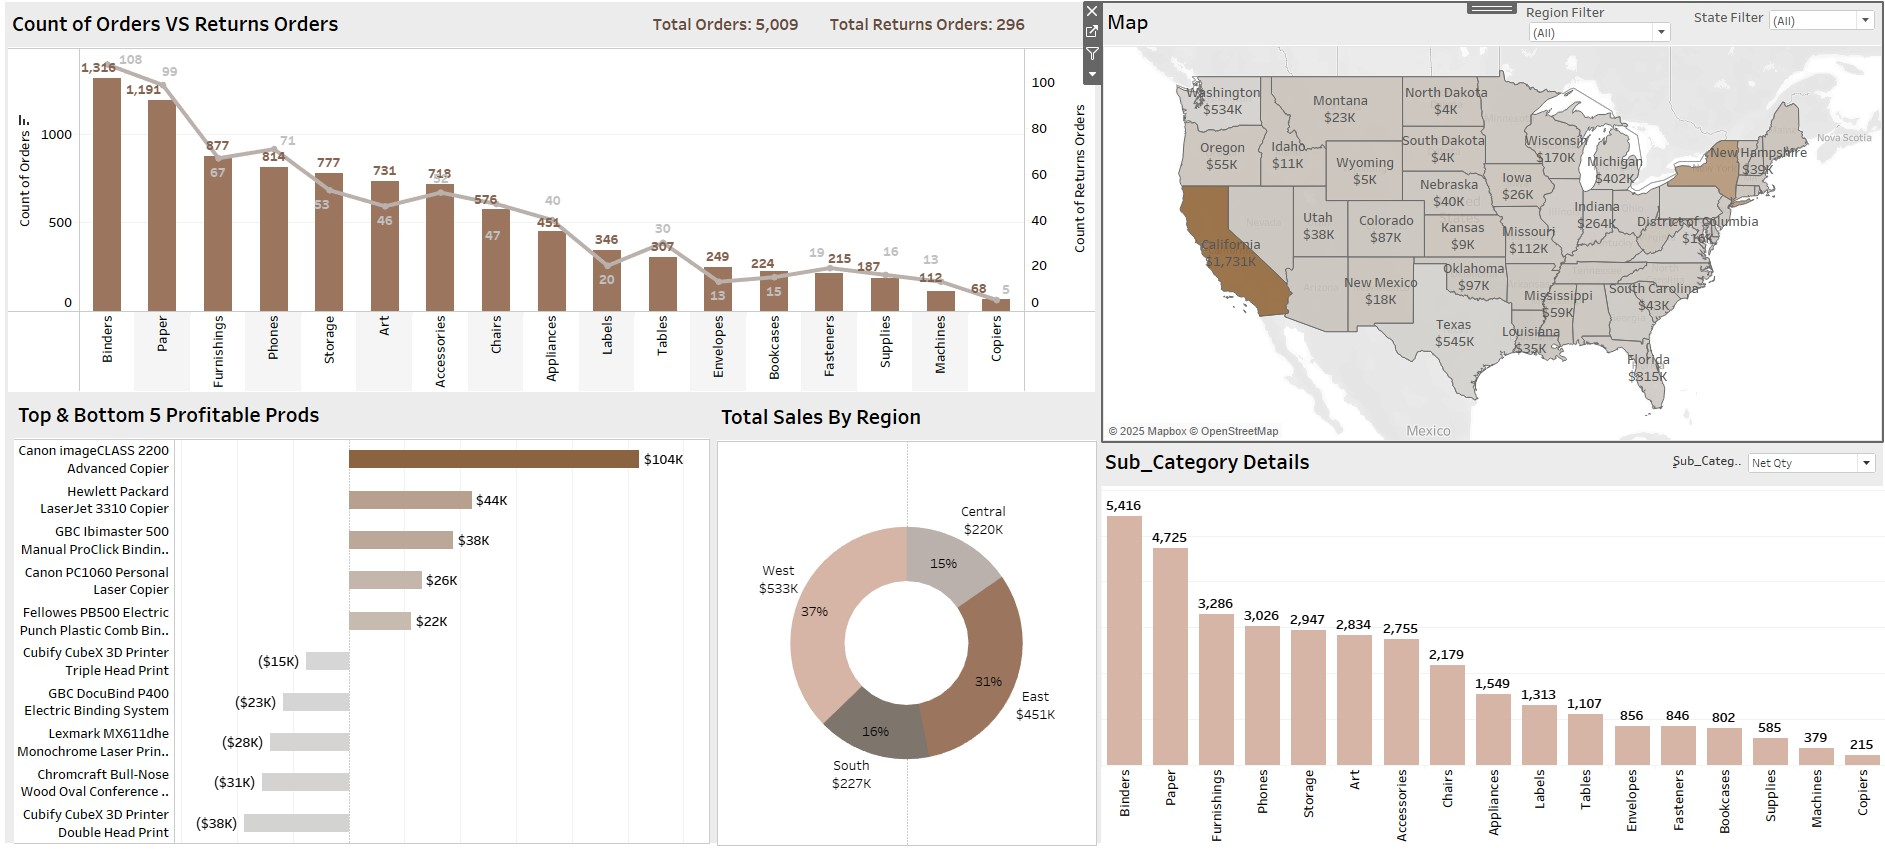

What the dashboard file says about the page in this screenshot:
{"tool":"tableau","page":{"name":"Sales Dashboard 2","canvas":[1000,1000],"units":"permille","ordinal":2},"visuals":[{"type":"text","box":[344.8,9.3,234.3,50.9]},{"type":"worksheet","title":"Map","mark":"Multipolygon","box":[583.9,10.4,411.2,511.6]},{"type":"filter","title":"Map","param":"[federated.1vtrnrs0e3vjdm107wfnd1ps555z].[none:Region:nk]","box":[807.4,10.4,77.9,45.1]},{"type":"worksheet","title":"Count of Orders VS Returns Orders","mark":"Line","rows":["Order ID","Order ID (Returns)"],"cols":["Sub-Category"],"box":[6,12.7,574.3,451.4]},{"type":"filter","title":"Map","param":"[federated.1vtrnrs0e3vjdm107wfnd1ps555z].[none:State:nk]","box":[896.1,15.1,97.2,41.7]},{"type":"worksheet","title":"Top & Bottom 5 Profitable Prods","mark":"Automatic","rows":["Product Name"],"cols":["Set 1","Calculation_747034606183997442"],"box":[9.1,468.8,367.7,523.1]},{"type":"worksheet","title":"Total Sales By Region","mark":"Pie","cols":["Calculation_747034606428680200","Calculation_747034606428680200"],"box":[380.4,471.1,200.5,523.1]},{"type":"worksheet","title":"Sub_Category Details","mark":"Bar","rows":["Calculation_747034606487568397"],"cols":["Sub-Category"],"box":[582.7,524.3,414.2,468.8]},{"type":"parameter","param":"[Parameters].[Parameter 1]","box":[884.7,532.4,108.7,38.2]}]}

Visuals, with their boxes on the dashboard's canvas, which has no fixed pixel size, in thousandths of its width and height (x1, y1, x2, y2). These are canvas units, not pixel positions in the 1885x849 screenshot, which may show the page scaled, cropped or inside an application window:
text: (x1=345, y1=9, x2=579, y2=60)
"Map" worksheet (Multipolygon marks): (x1=584, y1=10, x2=995, y2=522)
"Map" filter: (x1=807, y1=10, x2=885, y2=56)
"Count of Orders VS Returns Orders" worksheet (Line marks): (x1=6, y1=13, x2=580, y2=464)
"Map" filter: (x1=896, y1=15, x2=993, y2=57)
"Top & Bottom 5 Profitable Prods" worksheet: (x1=9, y1=469, x2=377, y2=992)
"Total Sales By Region" worksheet (Pie marks): (x1=380, y1=471, x2=581, y2=994)
"Sub_Category Details" worksheet (Bar marks): (x1=583, y1=524, x2=997, y2=993)
parameter: (x1=885, y1=532, x2=993, y2=571)
